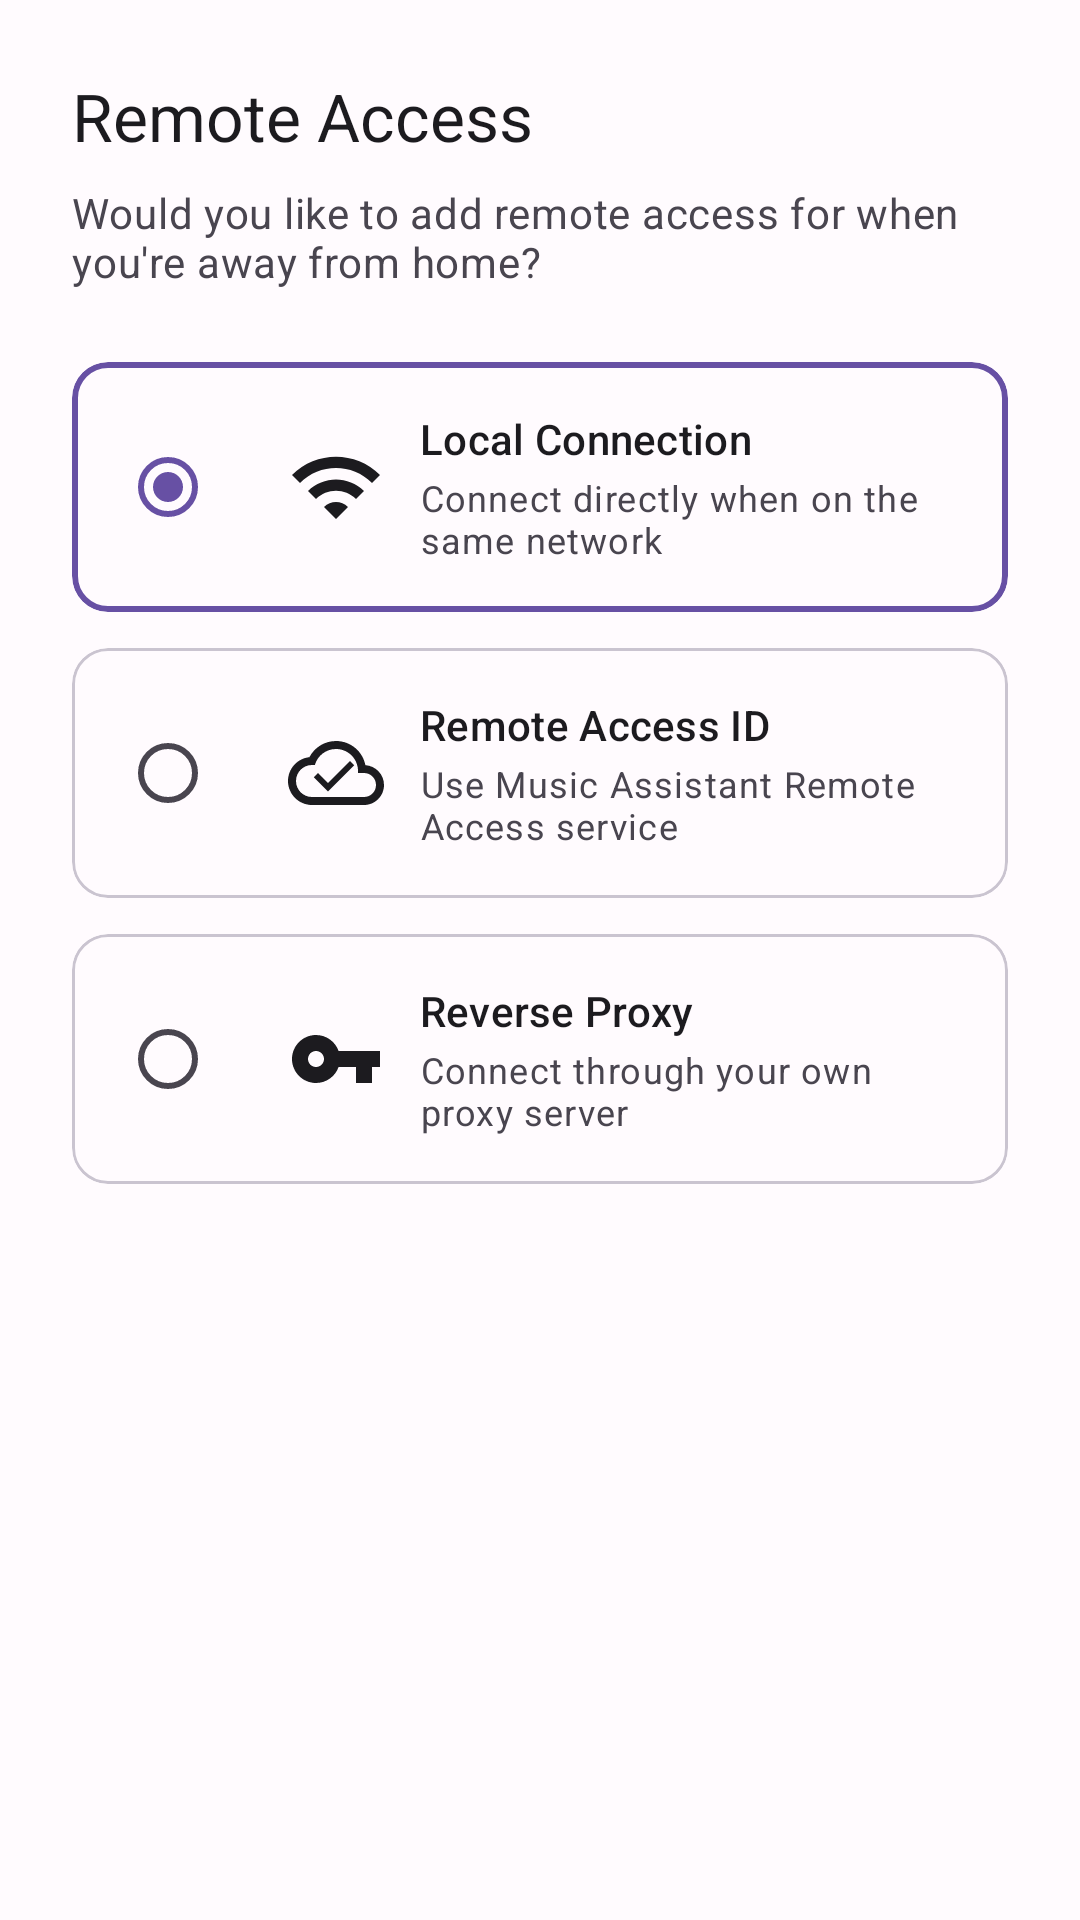

Locate icon controls on the screen. Image size 1080 x 1920, boxes as (x1, y1, x2, y2).
cloud connected: (288, 741, 384, 805)
vpn key: (292, 1035, 380, 1083)
wifi: (292, 456, 380, 519)
